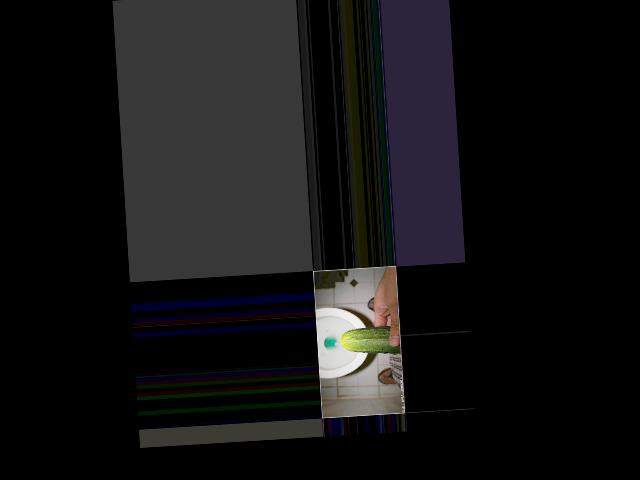cucumber: (340, 325, 402, 357)
